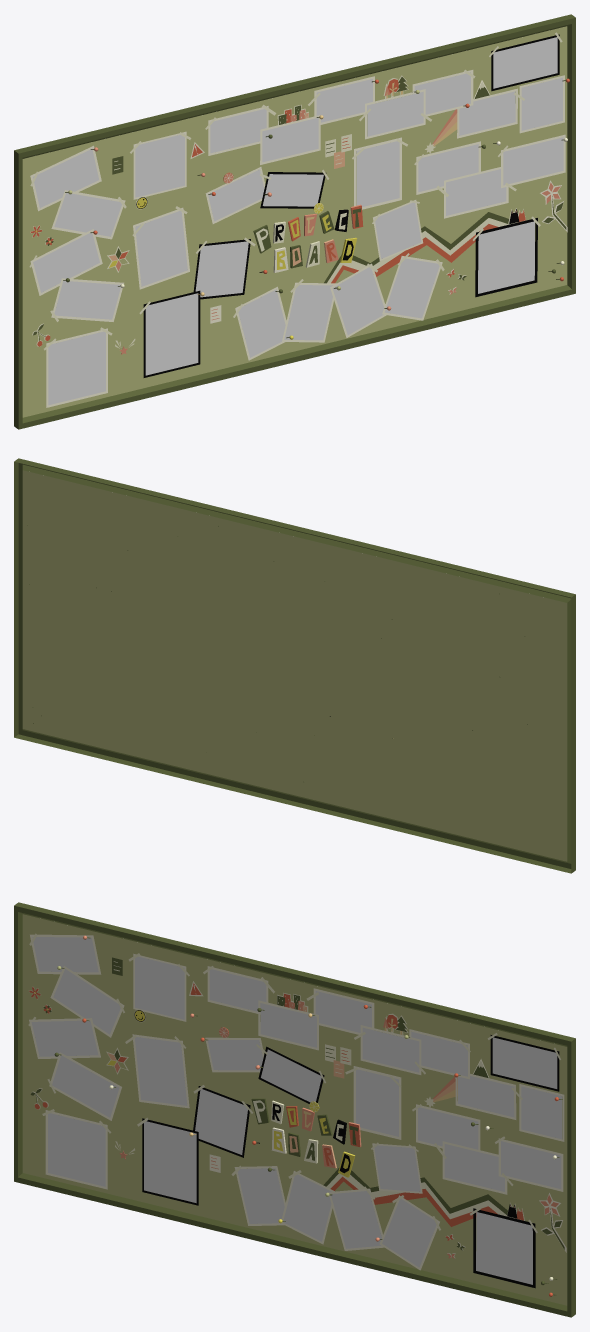
Rendered from gallery.glb.
The picture shows the model from 3 angles, top to bottom: view 1: azimuth 30°, elevation 25°; view 2: azimuth 150°, elevation 25°; view 3: azimuth 330°, elevation 25°; orthographic projection.
Parts seen in each view (by area): view 1: frame, workspace, strawberry_milk, sunset, coffee_shop, mars, transition, workaholic, car, window_4, window_3, window_2 (+18 smaller); view 2: frame; view 3: frame, workspace, strawberry_milk, sunset, coffee_shop, mars, transition, workaholic, car, window_4, window_3, window_2 (+18 smaller).
Boxes of the visible parts, x1=… form: frame: x1=14, y1=14, x2=575, y2=429; workspace: x1=145, y1=293, x2=198, y2=375; strawberry_milk: x1=48, y1=331, x2=105, y2=405; sunset: x1=478, y1=221, x2=534, y2=293; coffee_shop: x1=135, y1=211, x2=187, y2=286; mars: x1=135, y1=133, x2=184, y2=197; transition: x1=356, y1=141, x2=399, y2=206; workaholic: x1=195, y1=241, x2=248, y2=297; car: x1=493, y1=37, x2=557, y2=88; window_4: x1=384, y1=258, x2=439, y2=318; window_3: x1=332, y1=267, x2=383, y2=335; window_2: x1=284, y1=285, x2=332, y2=340; frame: x1=14, y1=458, x2=575, y2=873; frame: x1=14, y1=902, x2=575, y2=1317; workspace: x1=144, y1=1121, x2=196, y2=1203; strawberry_milk: x1=48, y1=1113, x2=105, y2=1186; sunset: x1=476, y1=1212, x2=532, y2=1284; coffee_shop: x1=135, y1=1037, x2=187, y2=1105; mars: x1=135, y1=956, x2=184, y2=1019; transition: x1=356, y1=1069, x2=398, y2=1136; workaholic: x1=195, y1=1089, x2=247, y2=1154; car: x1=492, y1=1037, x2=557, y2=1088; window_4: x1=382, y1=1199, x2=436, y2=1267; window_3: x1=331, y1=1191, x2=381, y2=1248; window_2: x1=283, y1=1174, x2=331, y2=1241.
Size of the model in its own units: 8.02 by 3.8 by 0.234.
